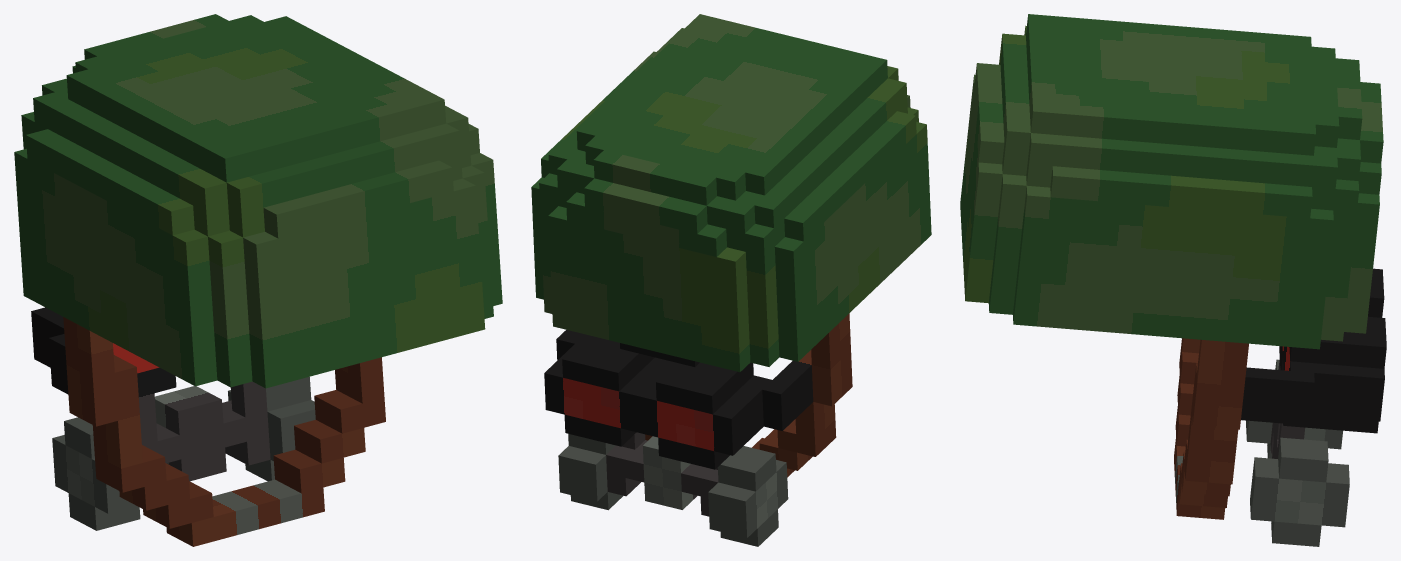
3 renders of one model, left to right at view 1: azimuth 30°, elevation 25°; view 2: azimuth 150°, elevation 25°; view 3: azimuth 270°, elevation 25°, orthographic. The views are drawn at different scales.
Visible parts, largest first — view 1: Equip_Head-Local; view 2: Equip_Head-Local; view 3: Equip_Head-Local.
Part boxes in pixels (x1,y1,x2,y2): Equip_Head-Local: (14, 14, 502, 546); Equip_Head-Local: (531, 14, 931, 546); Equip_Head-Local: (960, 14, 1386, 546).
Size of the model in its own units: 14.34 by 20.4 by 18.
Materials: 1 (1 with a texture image).
